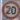20 km speed: (1, 1, 19, 20)
